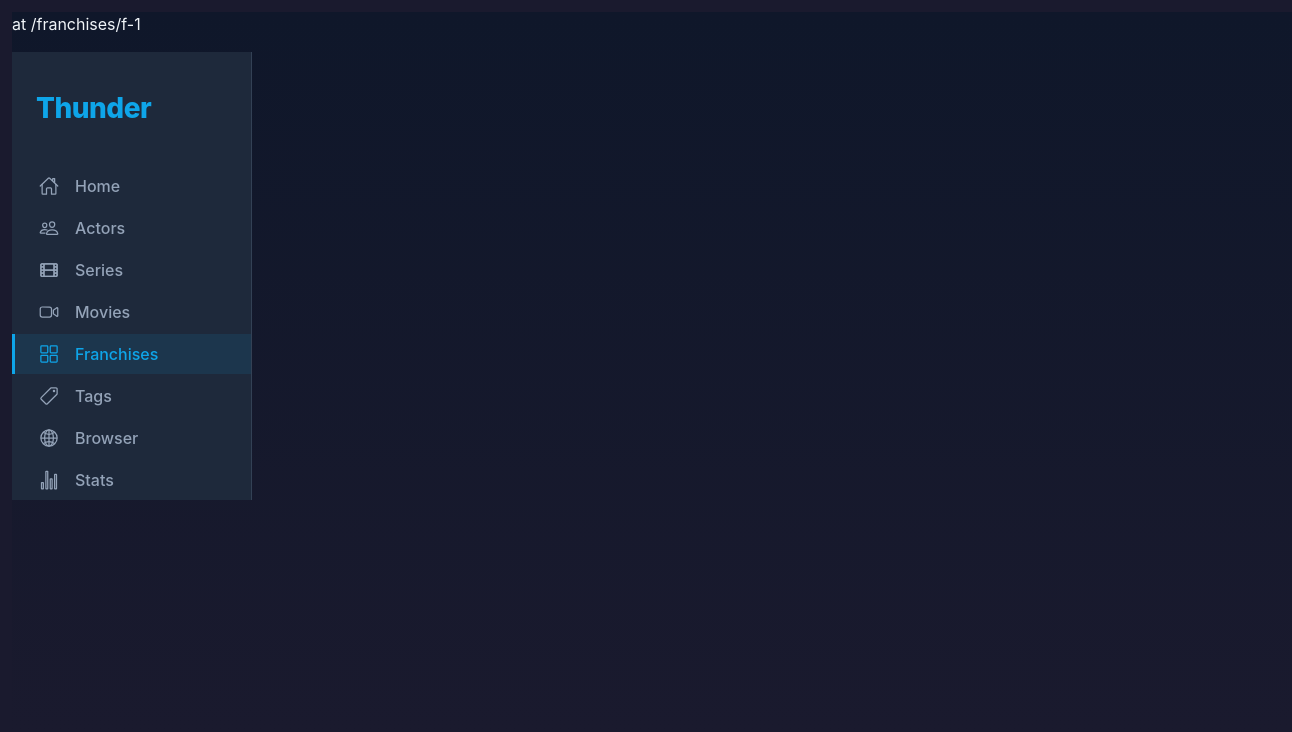
it: Sidebar › returns to the franchise it was left on after a visit to another tab
This screenshot has width=1292, height=732.
Click the button "Movies" at (132, 312), box [12,292,251,332]
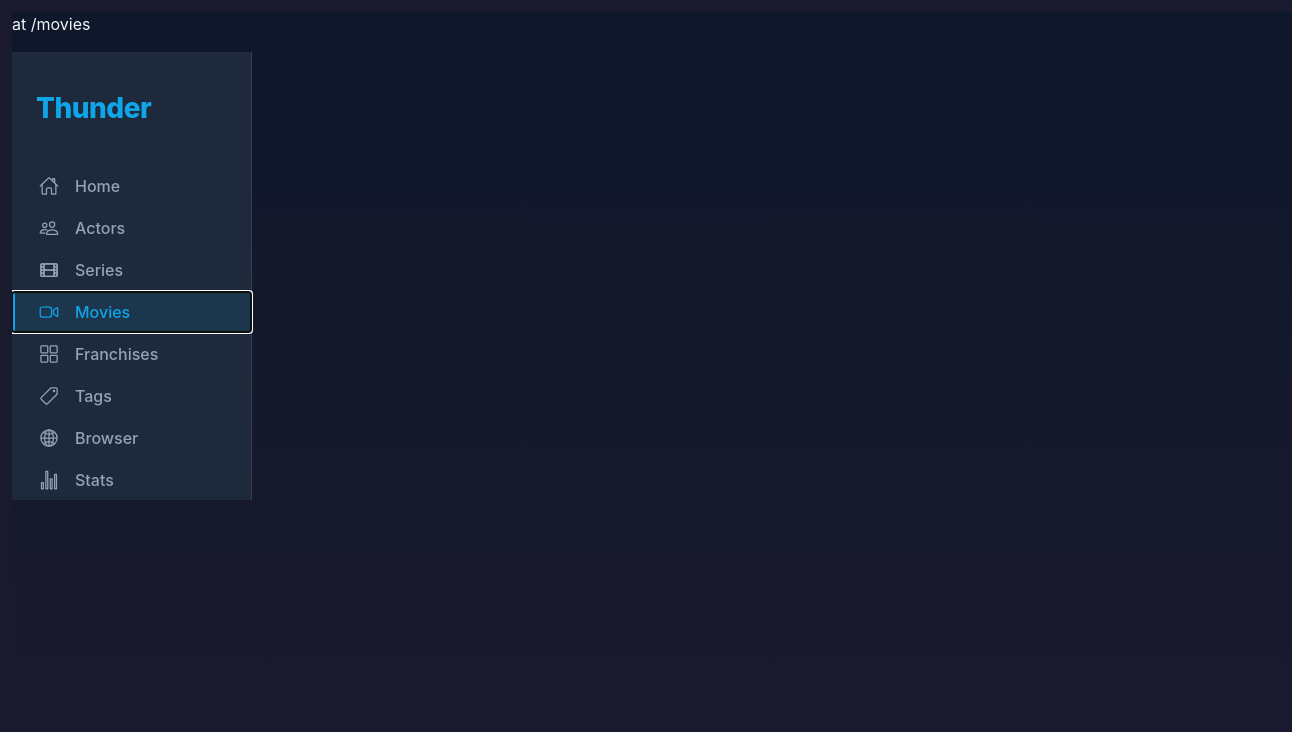
Now the text "at /movies" is shown, box [12,14,90,34]
Click the button "Franchises" at (132, 354), box [12,334,251,374]
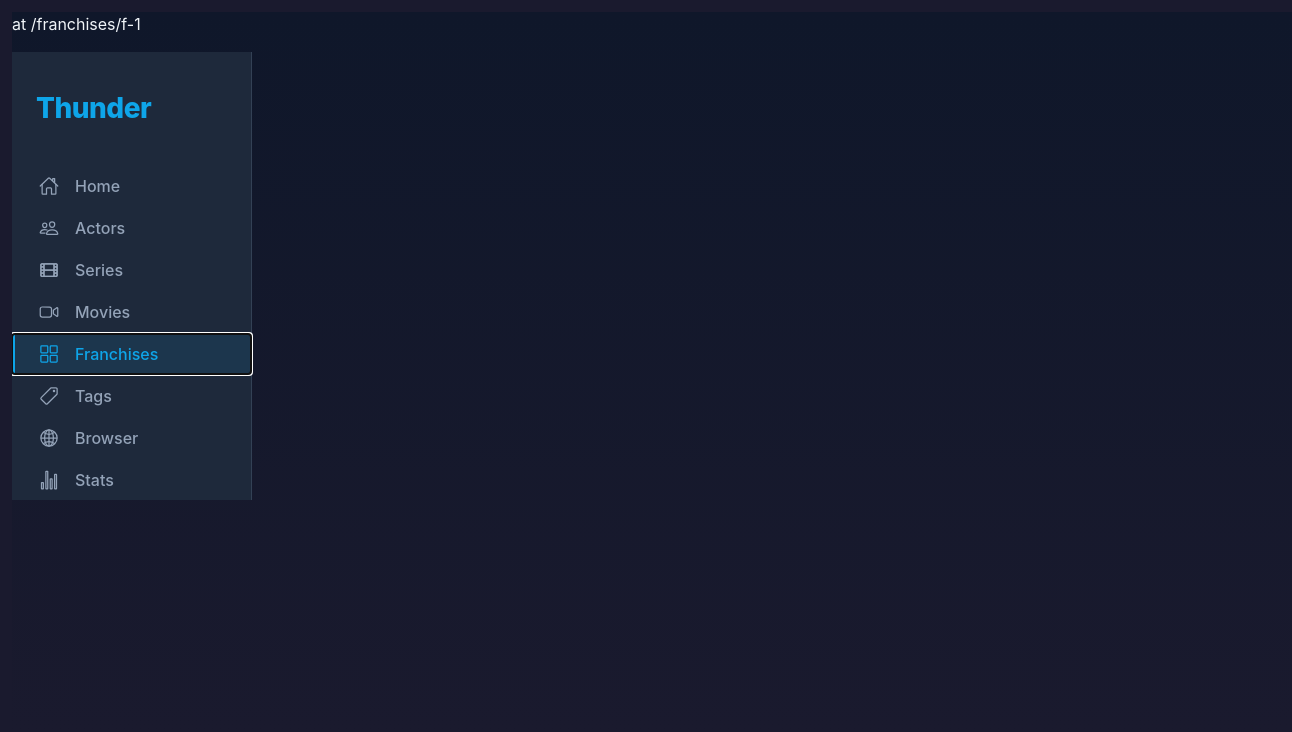
Now the text "at /franchises/f-1" is shown, box [12,14,141,34]
